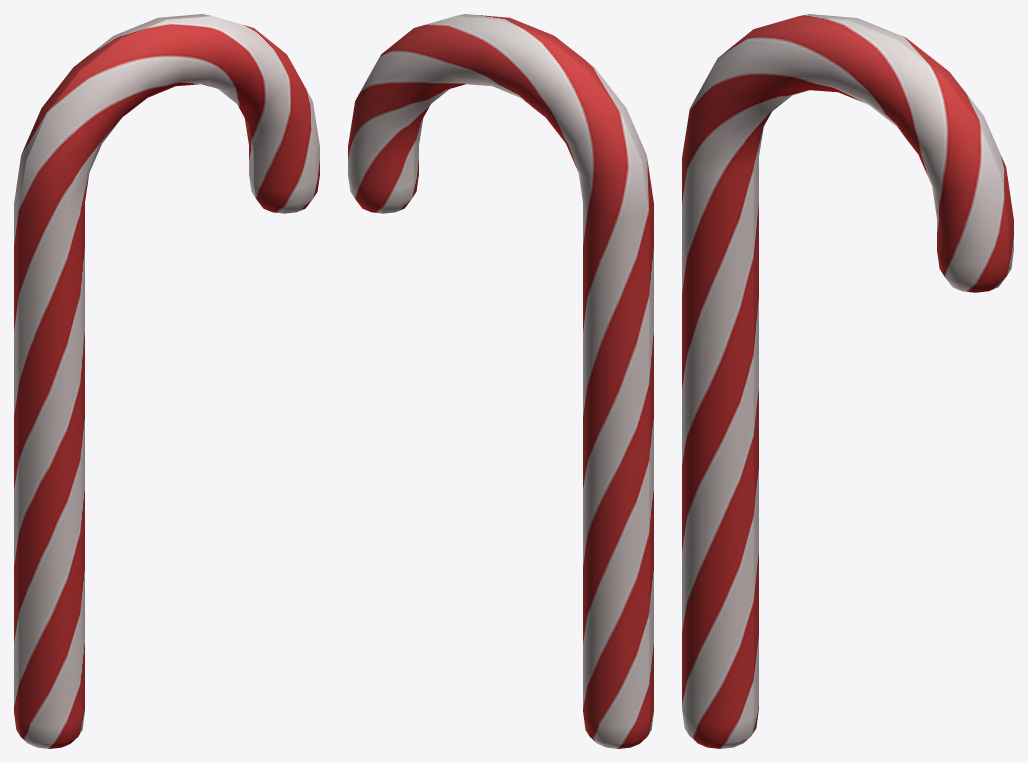
File: CandyCan_1.fbx
3 views of the same model, side by side, from view 1: azimuth 30°, elevation 25°; view 2: azimuth 150°, elevation 25°; view 3: azimuth 330°, elevation 25° (orthographic). The views are drawn at different scales.
Visible parts, largest first — view 1: CandyCan_1; view 2: CandyCan_1; view 3: CandyCan_1.
Part boxes in pixels (x1,y1,x2,y2): CandyCan_1: (14,14,319,748); CandyCan_1: (348,14,653,748); CandyCan_1: (682,14,1013,748).
Bounding box in the file's own units: 42.31 × 94.52 × 8.75.
Materials: 1 (1 with a texture image).
